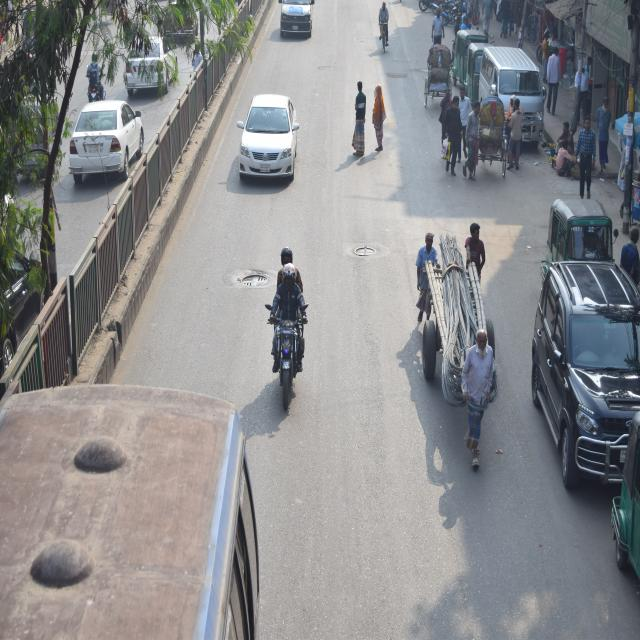car: (533, 248, 640, 502), (70, 90, 142, 184), (234, 90, 298, 191), (127, 35, 172, 84)
microbus: (470, 43, 557, 165)
motorbike: (271, 262, 313, 392), (86, 52, 111, 105)
